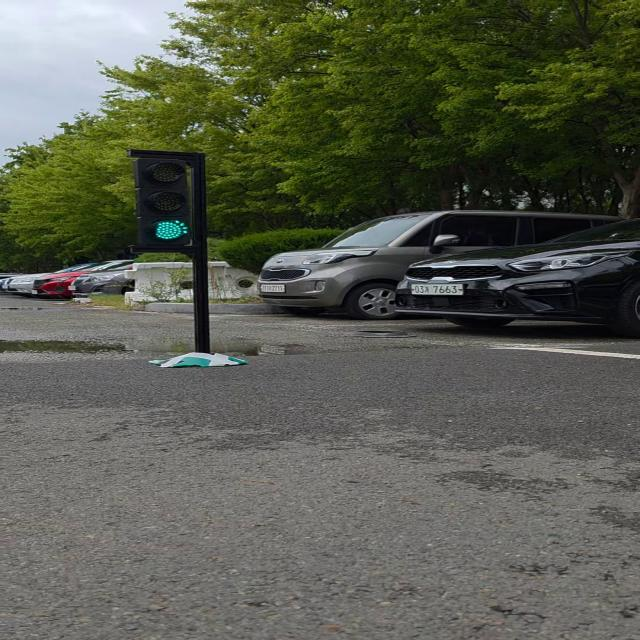green: (138, 153, 203, 254)
